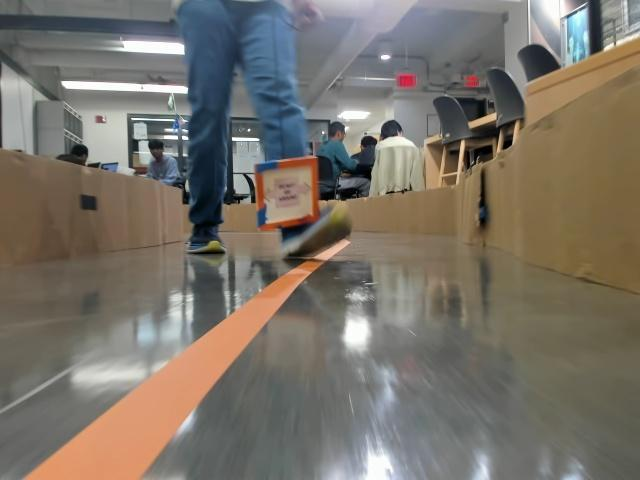Do Not Go Around: (263, 180, 308, 208)
